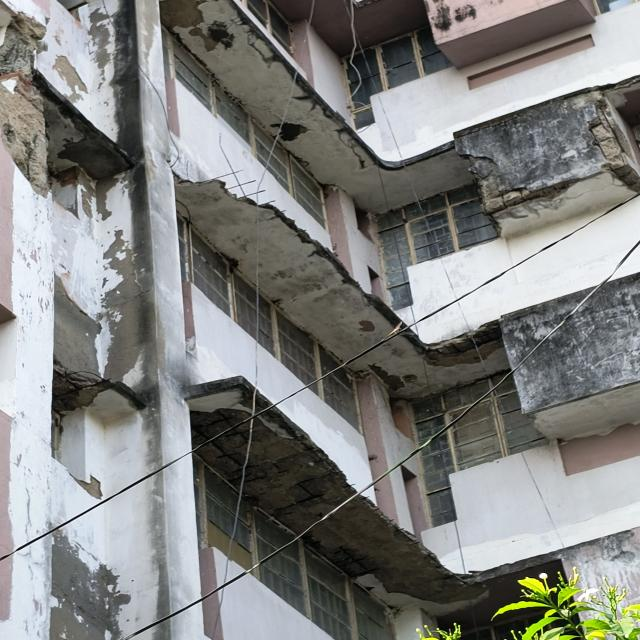Crack: (335, 128, 360, 173)
Scaling: (277, 122, 308, 142)
Spalling: (178, 180, 360, 355), (455, 89, 640, 238), (306, 496, 487, 603), (243, 410, 355, 533), (0, 73, 49, 195), (52, 360, 145, 417), (185, 377, 253, 445), (0, 0, 46, 75), (197, 423, 249, 487)
pollution -moisture induced blackening: (514, 274, 640, 440), (111, 0, 154, 380), (500, 290, 586, 365)
